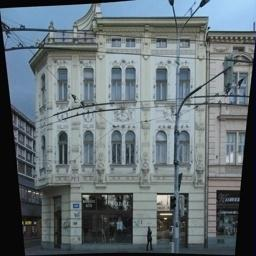building: (33, 12, 212, 245)
